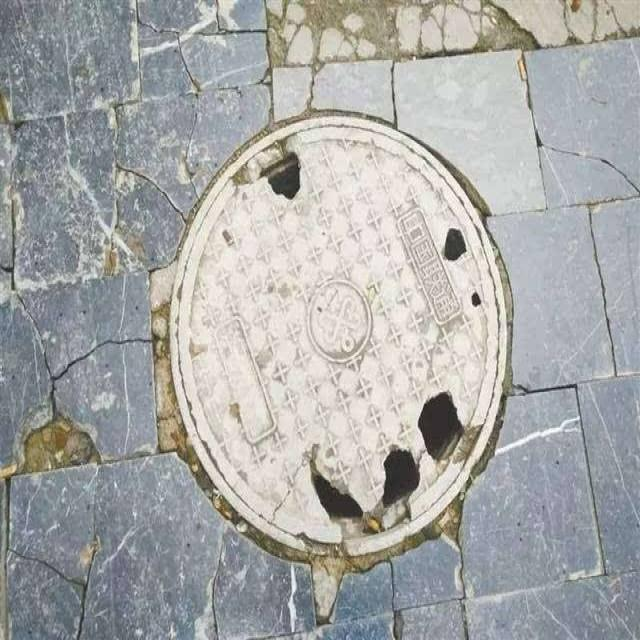Faulty: (168, 115, 507, 558)
